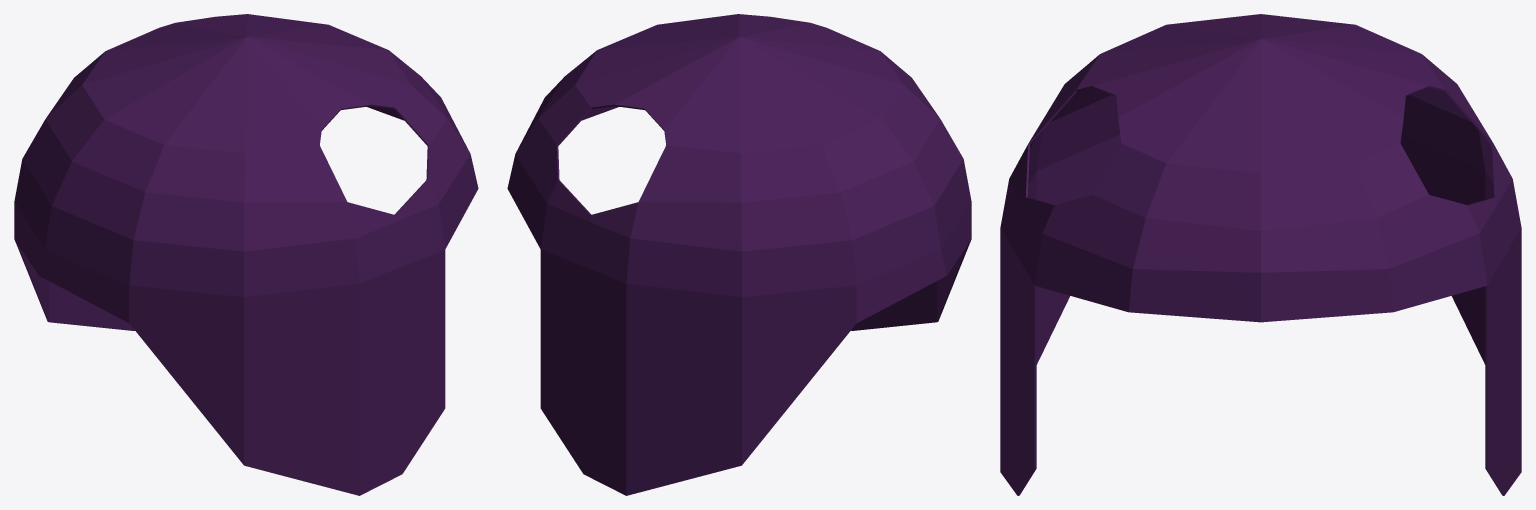
The model's file is Trapper Hat.fbx.
3 views of the same model, side by side, from view 1: azimuth 30°, elevation 25°; view 2: azimuth 150°, elevation 25°; view 3: azimuth 270°, elevation 25° (orthographic). The views are drawn at different scales.
Parts seen in each view (by area): view 1: TrapperHat; view 2: TrapperHat; view 3: TrapperHat.
Boxes of the visible parts, <box> form: TrapperHat: <box>14,14,478,495</box>; TrapperHat: <box>507,14,971,495</box>; TrapperHat: <box>1000,14,1521,495</box>.
Bounding box in the file's own units: 103 × 90.39 × 98.51.
